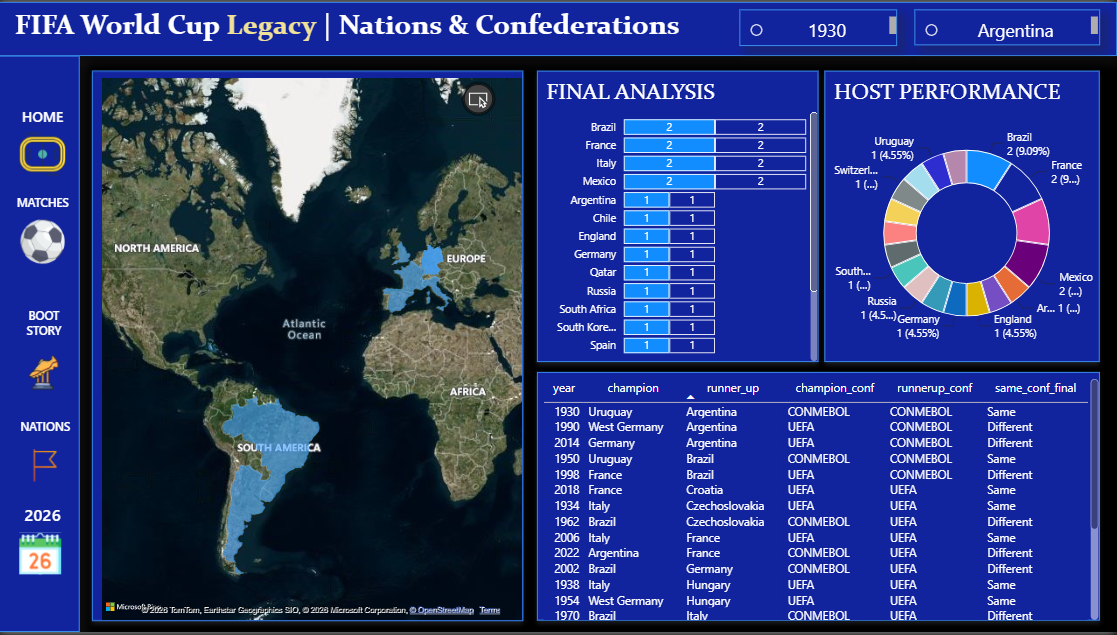

This screenshot's page, from the dashboard's own definition file:
{"tool":"powerbi","page":{"name":"Nations & Confederations","canvas":[1280,720],"ordinal":3},"visuals":[{"type":"filledMap","fields":{"Category":["fifa_football editions.champion"]},"box":[108.6,78.6,492.9,628.6],"z":0},{"type":"donutChart","title":"HOST PERFORMANCE","fields":{"Y":["CountNonNull(fifa_football editions.host_won)"],"Category":["fifa_football editions.host"]},"box":[945.7,78.6,314.3,332.9],"z":1000},{"type":"barChart","title":"FINAL ANALYSIS","fields":{"Y":["CountNonNull(fifa_football editions.runner_up)","CountNonNull(fifa_football editions.champion)"],"Category":["fifa_football editions.host"]},"box":[617.1,78.6,321.4,332.9],"z":2000},{"type":"tableEx","fields":{"Values":["fifa_football editions.year","fifa_football editions.champion","fifa_football editions.runner_up","fifa_football editions.champion_conf","fifa_football editions.runnerup_conf","fifa_football editions.same_conf_final"]},"box":[617.1,422.9,642.9,284.3],"z":3000},{"type":"textbox","box":[0,0,1280,61.4],"z":10000},{"type":"listSlicer","fields":{"Values":["matches.country"]},"box":[1048.3,8.9,211.8,40.9],"z":11000},{"type":"listSlicer","fields":{"Values":["editions.year"]},"box":[848.6,8.6,180,41.4],"z":12000},{"type":"shape","box":[0,61.4,94.3,658.6],"z":12001},{"type":"actionButton","title":"HOME","box":[21.4,120,61.4,85.7],"z":12002},{"type":"actionButton","title":"MATCHES","box":[21.4,220,61.4,85.7],"z":12003},{"type":"actionButton","title":"BOOT STORY","box":[22.9,348.6,61.4,100],"z":12004},{"type":"actionButton","title":"NATIONS","box":[24.3,475.7,61.4,85.7],"z":12005},{"type":"actionButton","title":"2026","box":[21.4,572.9,61.4,85.7],"z":12006}]}

Visuals, with their boxes in screenshot pixels (x1, y1, x2, y2), scaled from the page's 1280x720 canvas onto the 1117x635 screenshot:
filledMap - fifa_football editions.champion: rect(95, 69, 525, 624)
"HOST PERFORMANCE" donutChart: rect(825, 69, 1100, 363)
"FINAL ANALYSIS" barChart: rect(539, 69, 819, 363)
tableEx - fifa_football editions.year x fifa_football editions.champion: rect(539, 373, 1100, 624)
textbox: rect(0, 0, 1116, 54)
listSlicer - matches.country: rect(915, 8, 1100, 44)
listSlicer - editions.year: rect(741, 8, 898, 44)
shape: rect(0, 54, 82, 634)
"HOME" actionButton: rect(19, 106, 72, 181)
"MATCHES" actionButton: rect(19, 194, 72, 270)
"BOOT STORY" actionButton: rect(20, 307, 74, 396)
"NATIONS" actionButton: rect(21, 420, 75, 495)
"2026" actionButton: rect(19, 505, 72, 581)
